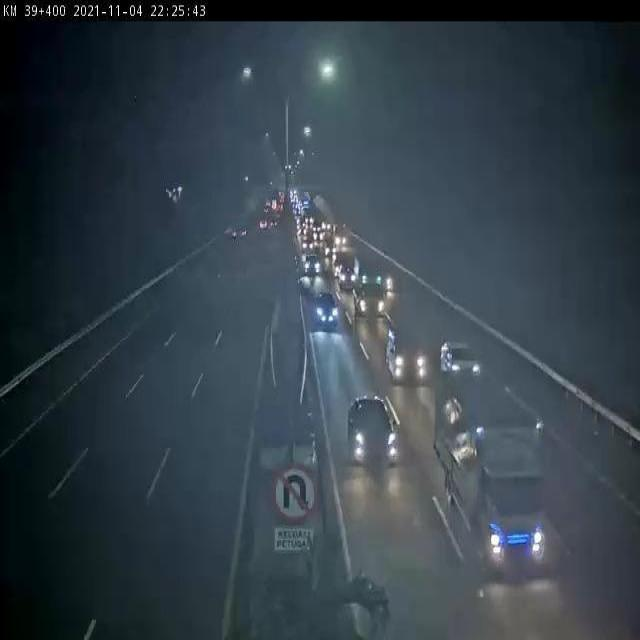Car: (340, 397, 405, 474), (309, 289, 351, 341), (441, 340, 483, 383), (355, 284, 386, 327), (335, 261, 361, 294), (301, 253, 324, 280)
Truck: (430, 381, 562, 588)
Van: (380, 325, 435, 387)
